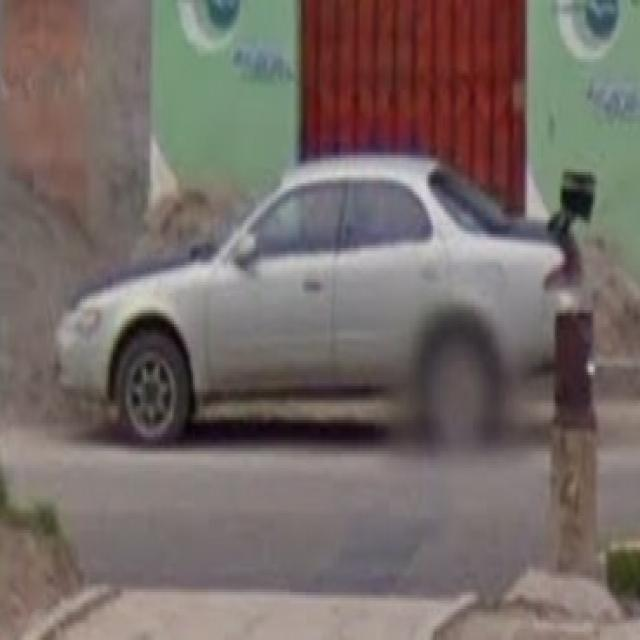cars: (49, 142, 564, 452)
